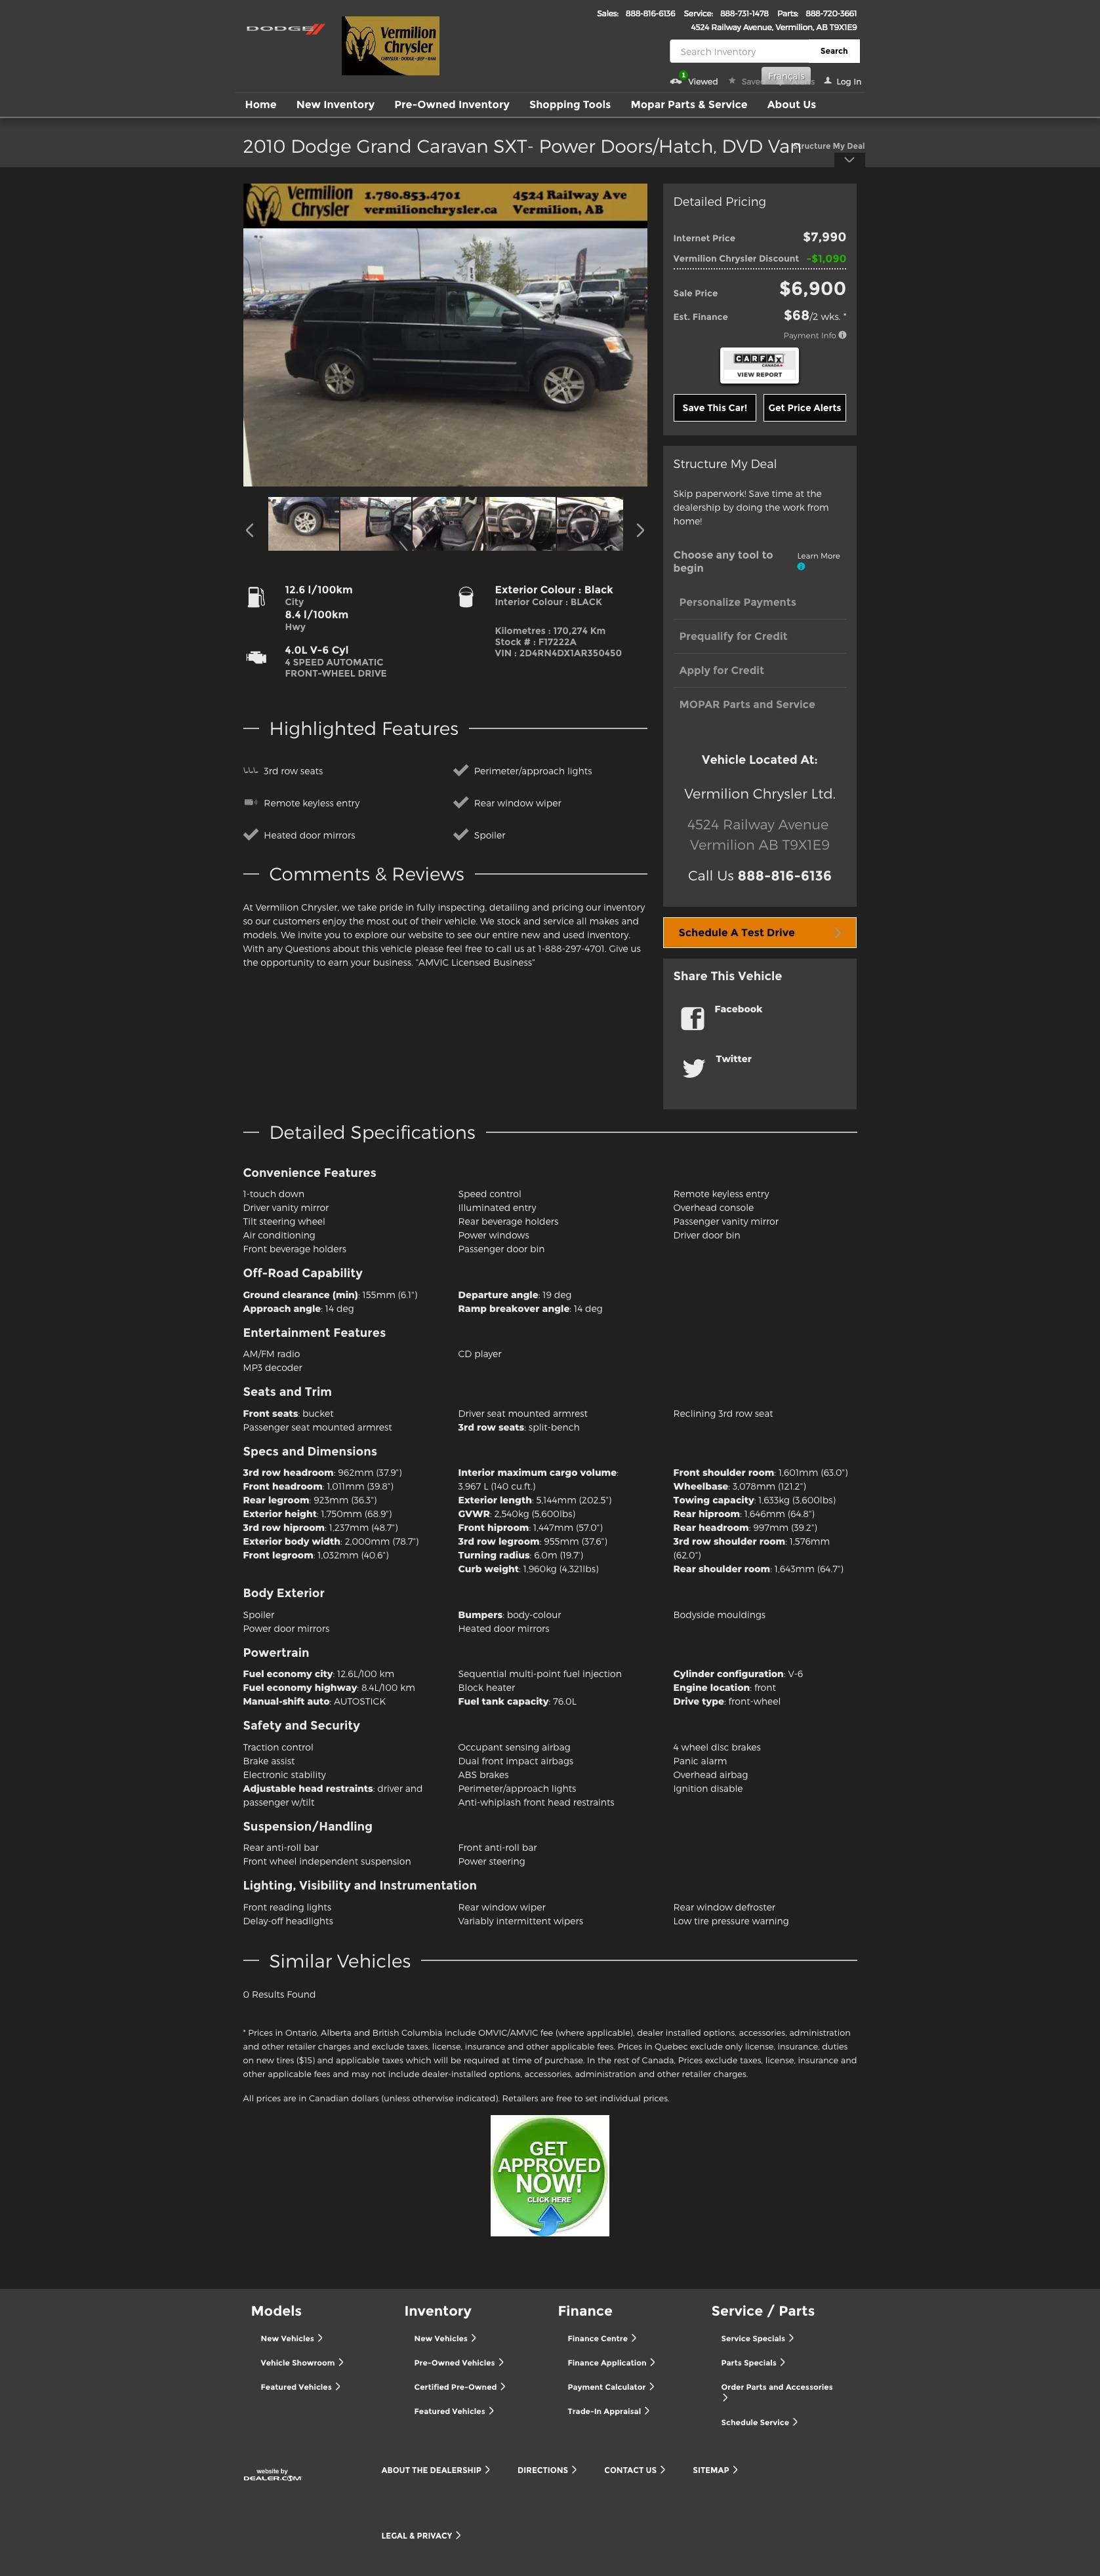car: (636, 522, 646, 539)
